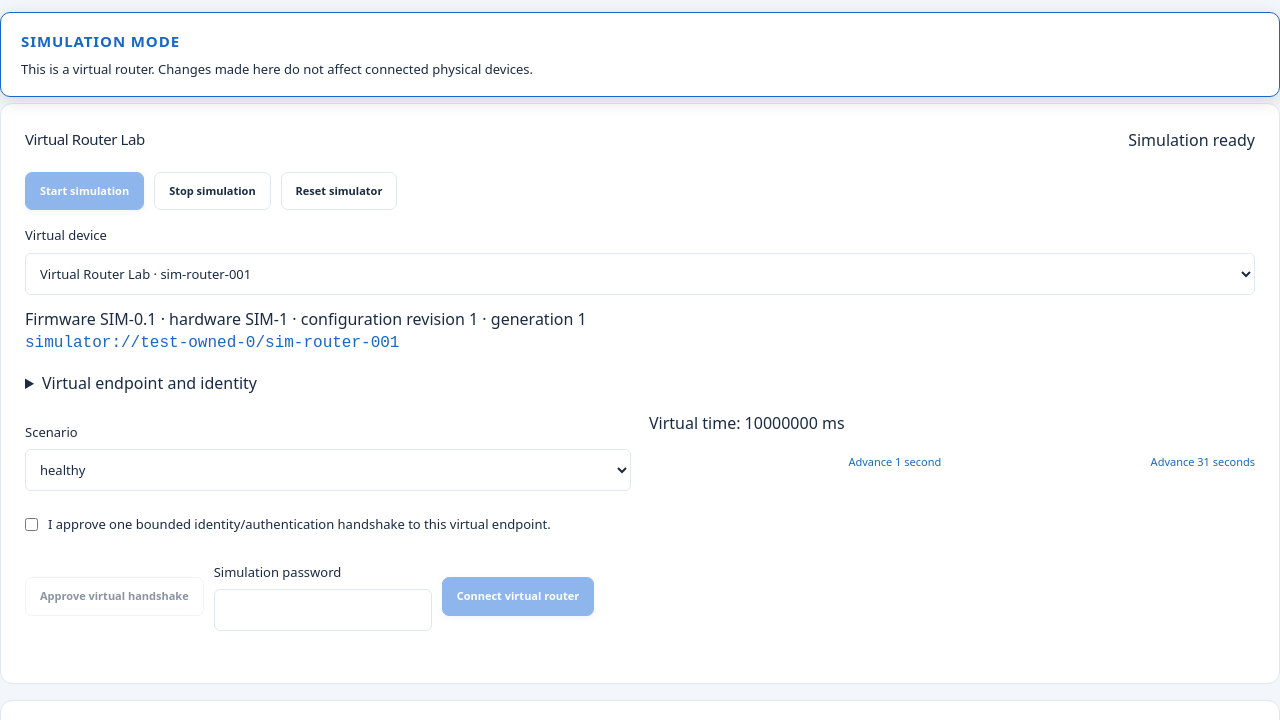
Test: requires explicit handshake approval, connection and separate read authorization
Expected: the button "Connect virtual router" is disabled, [442,577,594,616]
Click the checkbox named "Approve virtual endpoint handshake" at [32, 525], box [25,518,38,531]
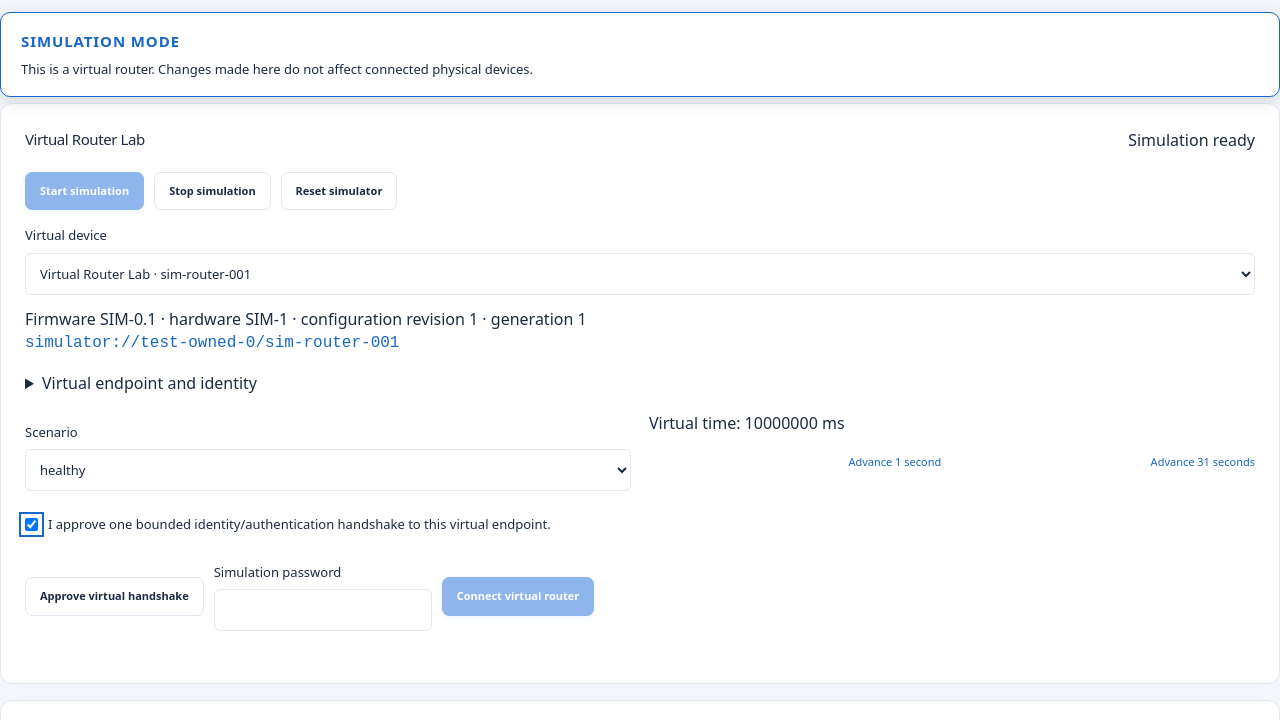
Click the button "Approve virtual handshake" at [114, 597], box [25,577,204,616]
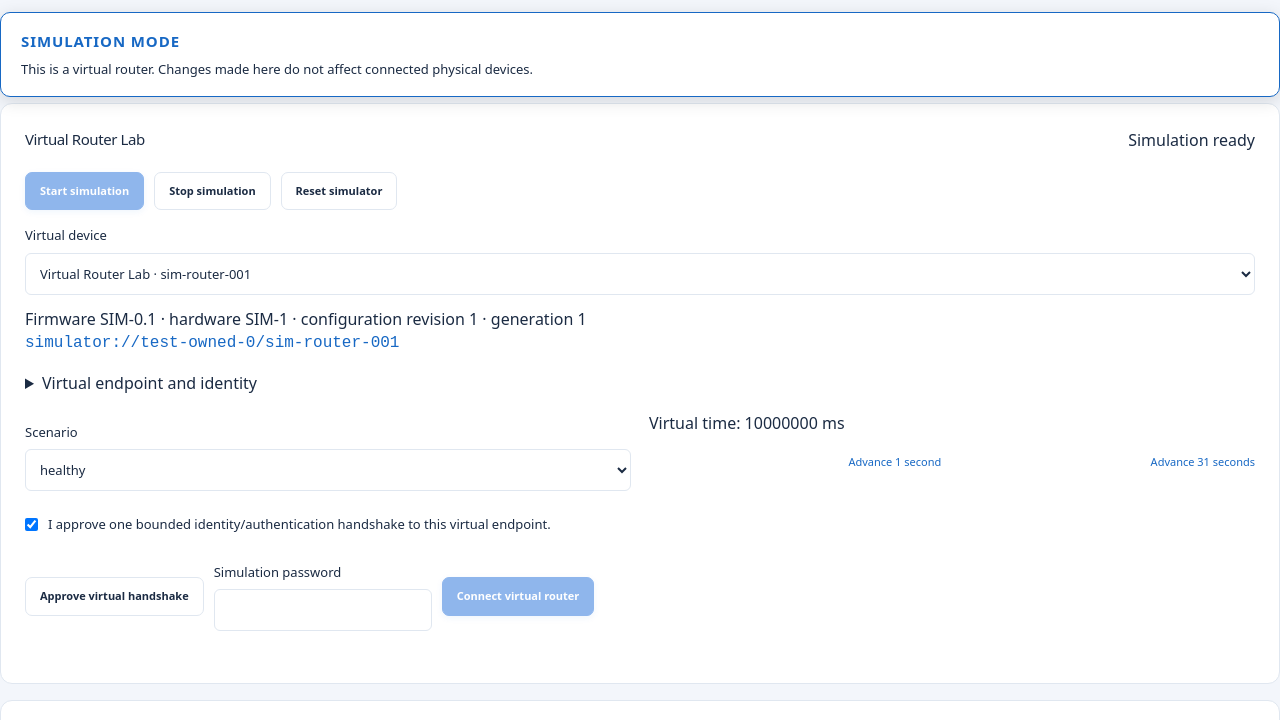
Type "lab-only" into the password field labelled "Simulation password" at [323, 610], box [214,589,432,630]
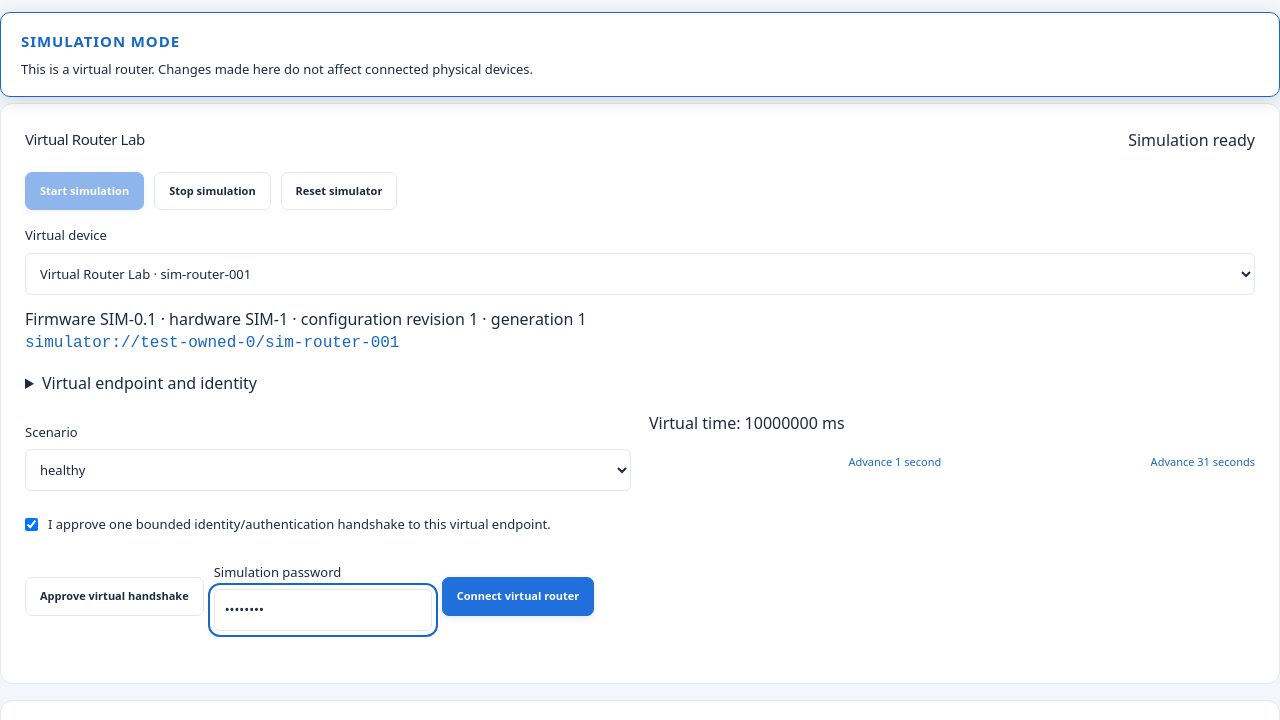
Click the button "Connect virtual router" at [518, 597], box [442,577,594,616]
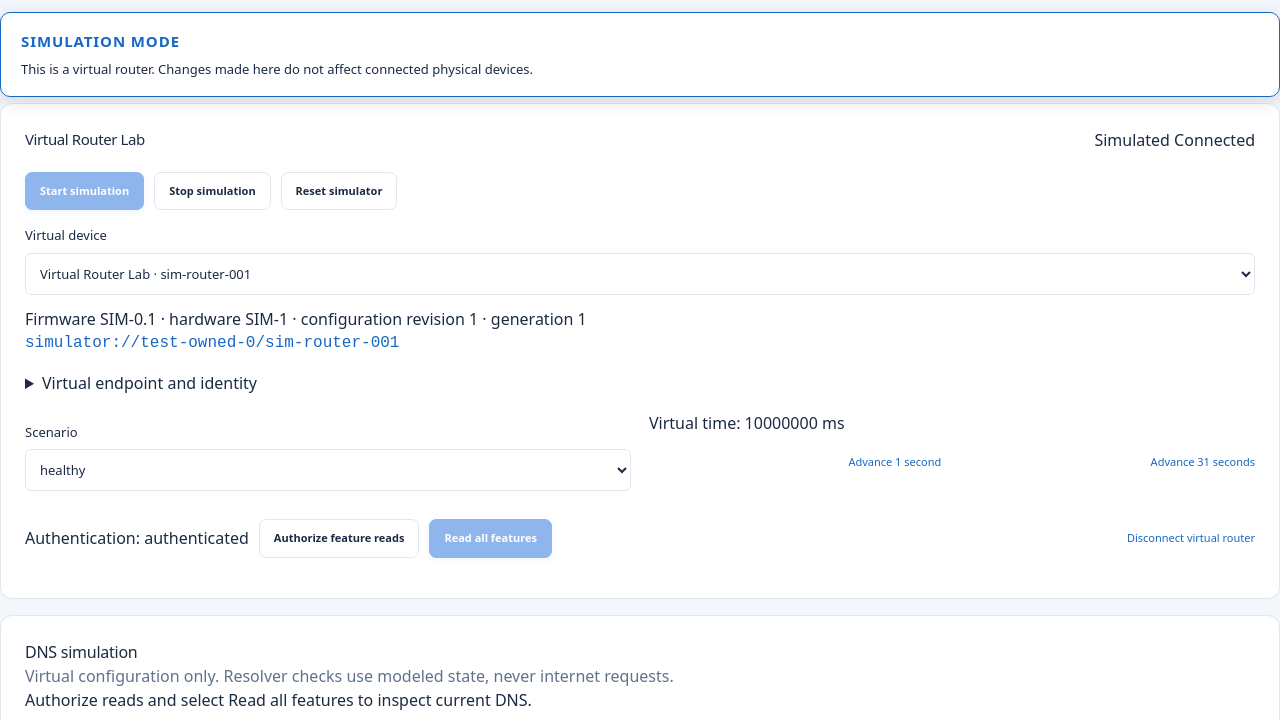
Expected: the text "Simulated Connected" is shown, [1094,128,1255,152]
Expected: the button "Read all features" is disabled, [429,519,552,558]
Click the button "Authorize feature reads" at [339, 538], box [259,519,419,558]
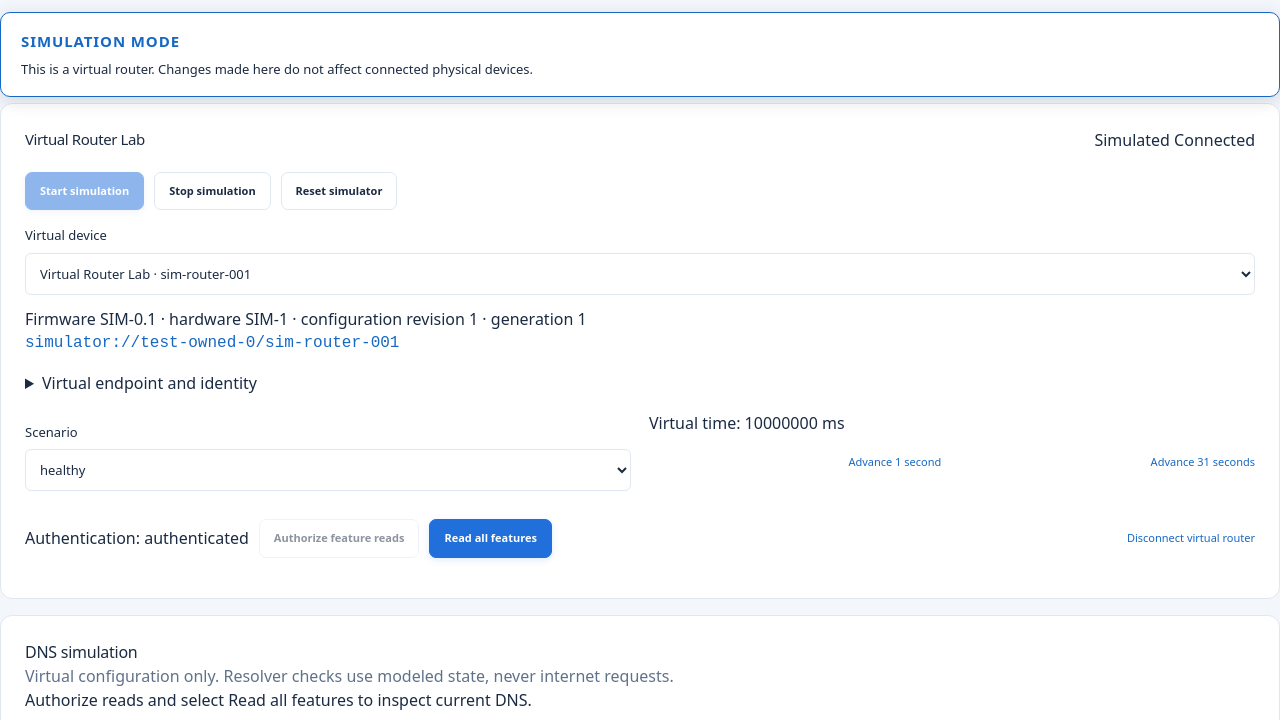
Click the button "Read all features" at [491, 538], box [429,519,552,558]
(page scrolled)
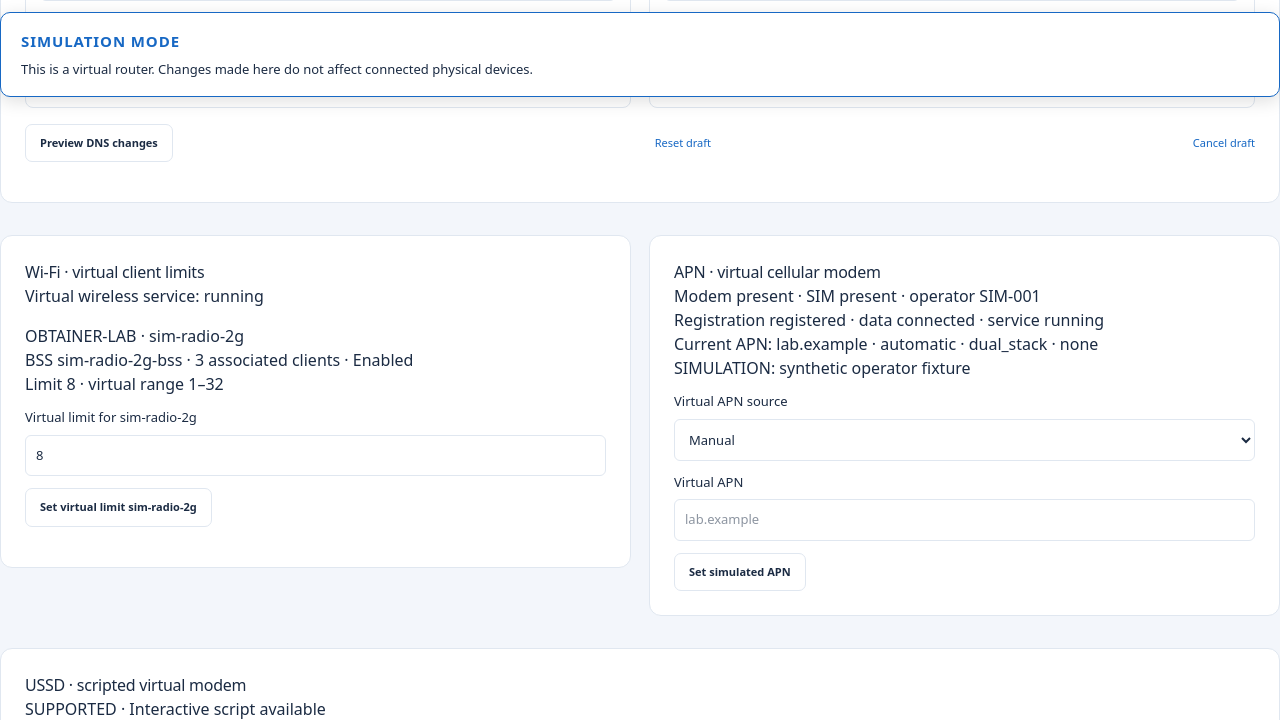
Expected: the label labelled "Simulation password" is not shown
Expected: the text "Current APN: lab.example · automatic · dual_stack · none" is shown, [674,333,1098,355]
Expected: the text "BSS sim-radio-2g-bss · 3 associated clients · Enabled" is shown, [25,349,413,371]
